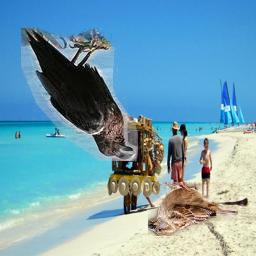Crow: (22, 29, 139, 162)
Sparrow: (148, 182, 238, 236)
